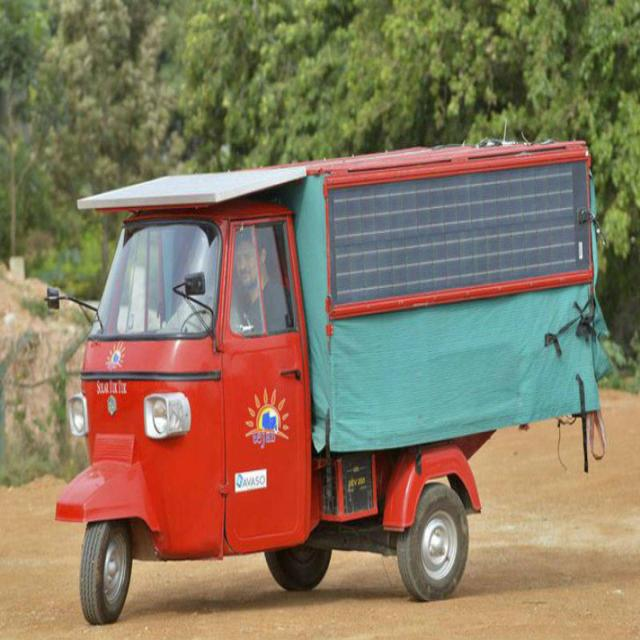truck: (56, 142, 606, 622)
